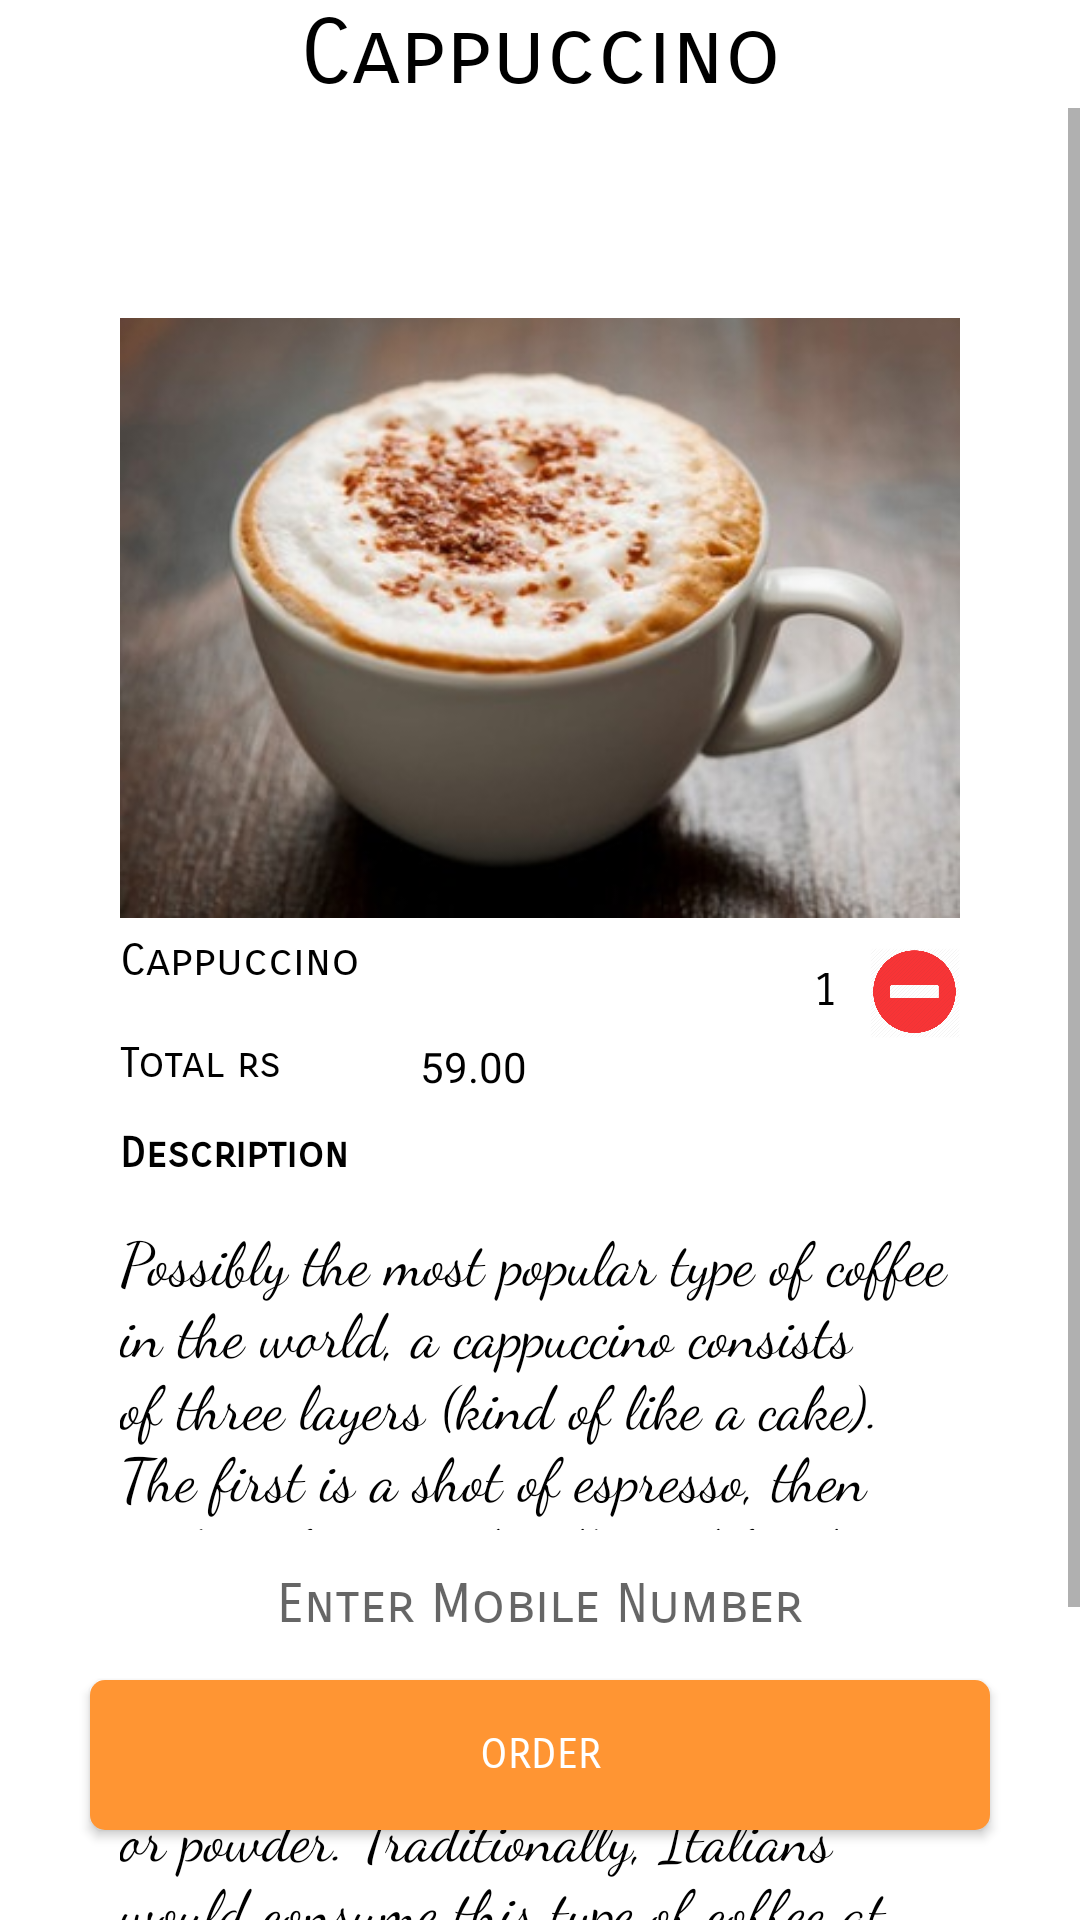

Point at icon controls on the screen. Image size 1080*1920, points as (x=x, y=y).
minus: (x=914, y=991)
